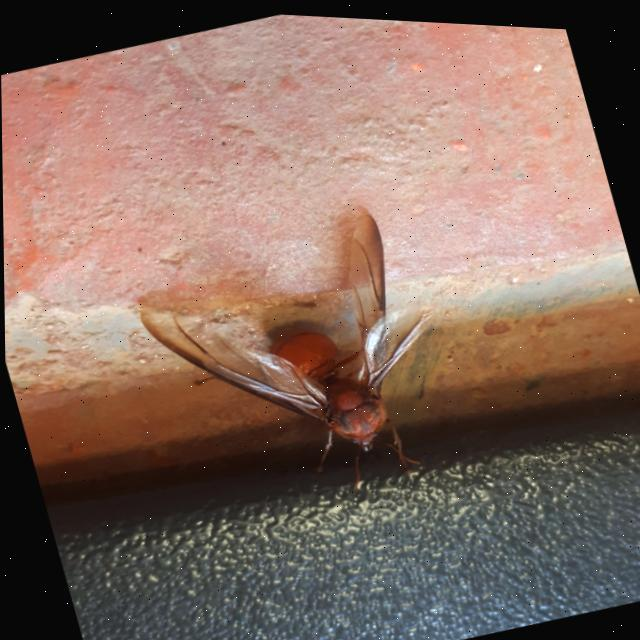Alive-Female-Alate: (120, 179, 479, 539)
